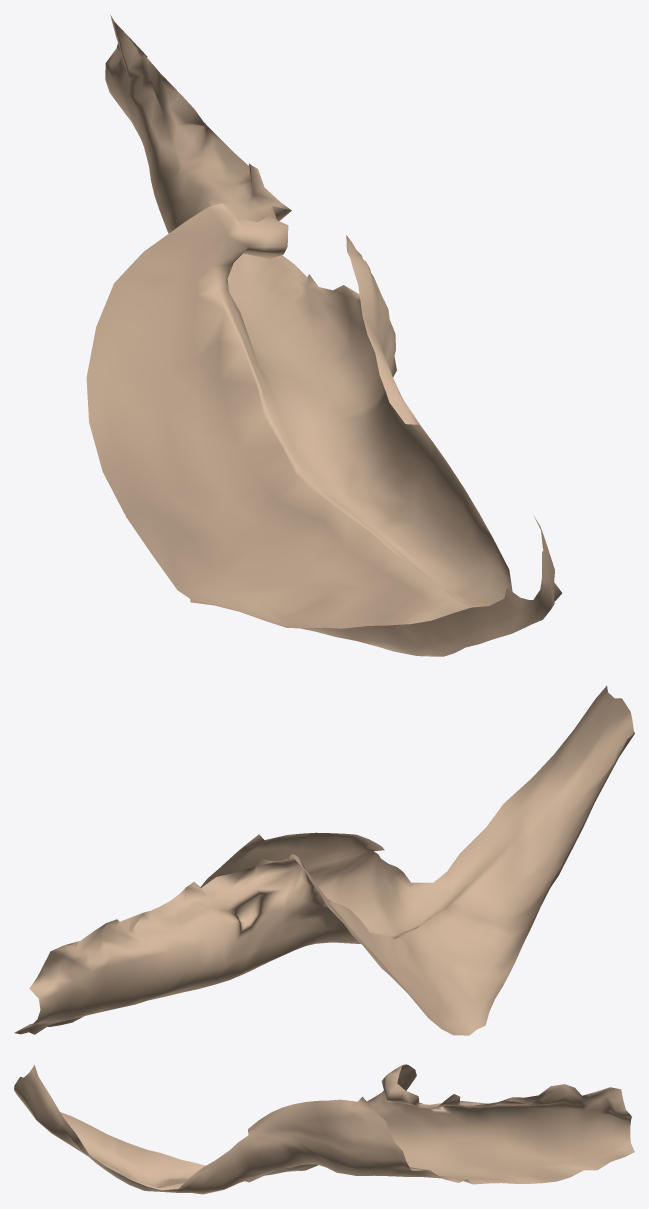
3 views of the same model, one above another, from view 1: azimuth 30°, elevation 25°; view 2: azimuth 150°, elevation 25°; view 3: azimuth 270°, elevation 25° (orthographic). The views are drawn at different scales.
Parts seen in each view (by area): view 1: 左侧髂腰筋膜; view 2: 左侧髂腰筋膜; view 3: 左侧髂腰筋膜.
Boxes of the visible parts, bbox=[...] form: 左侧髂腰筋膜: bbox=[86, 15, 561, 656]; 左侧髂腰筋膜: bbox=[14, 686, 634, 1035]; 左侧髂腰筋膜: bbox=[14, 1064, 634, 1194].
Size of the model in its own units: 0.1431 by 0.1262 by 0.4966.
